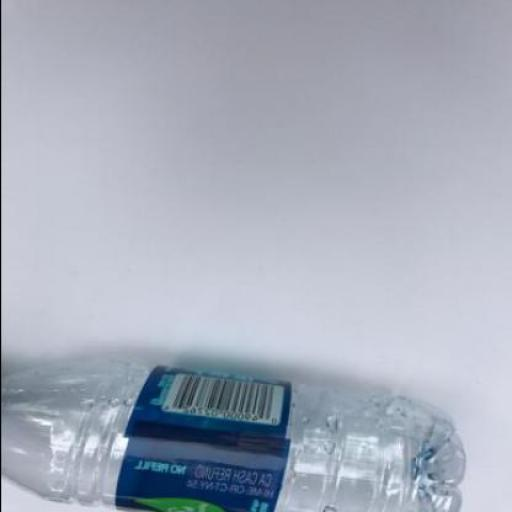plastic: (2, 364, 466, 511), (116, 368, 294, 511)
